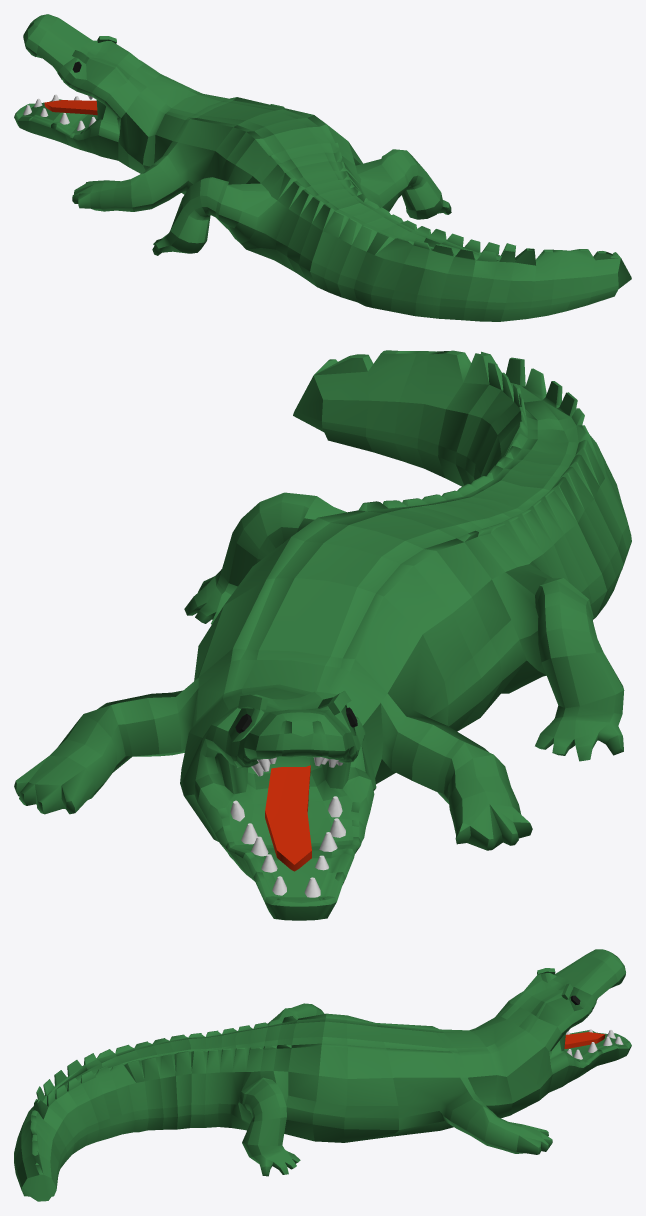
File: Crocodile.fbx
3 renders of one model, top to bottom at view 1: azimuth 30°, elevation 25°; view 2: azimuth 150°, elevation 25°; view 3: azimuth 270°, elevation 25°, orthographic. The views are drawn at different scales.
Visible parts, largest first — view 1: pCube7; view 2: pCube7; view 3: pCube7.
Boxes of the visible parts, bbox=[...] form: pCube7: bbox=[14, 14, 631, 321]; pCube7: bbox=[14, 350, 631, 920]; pCube7: bbox=[14, 949, 631, 1201].
Size of the model in its own units: 8.36 by 2.9 by 13.62.
